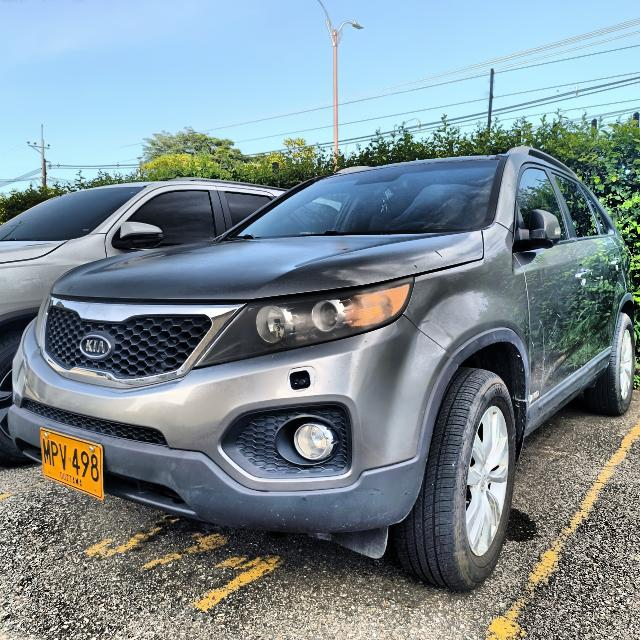plate: (41, 429, 102, 499)
